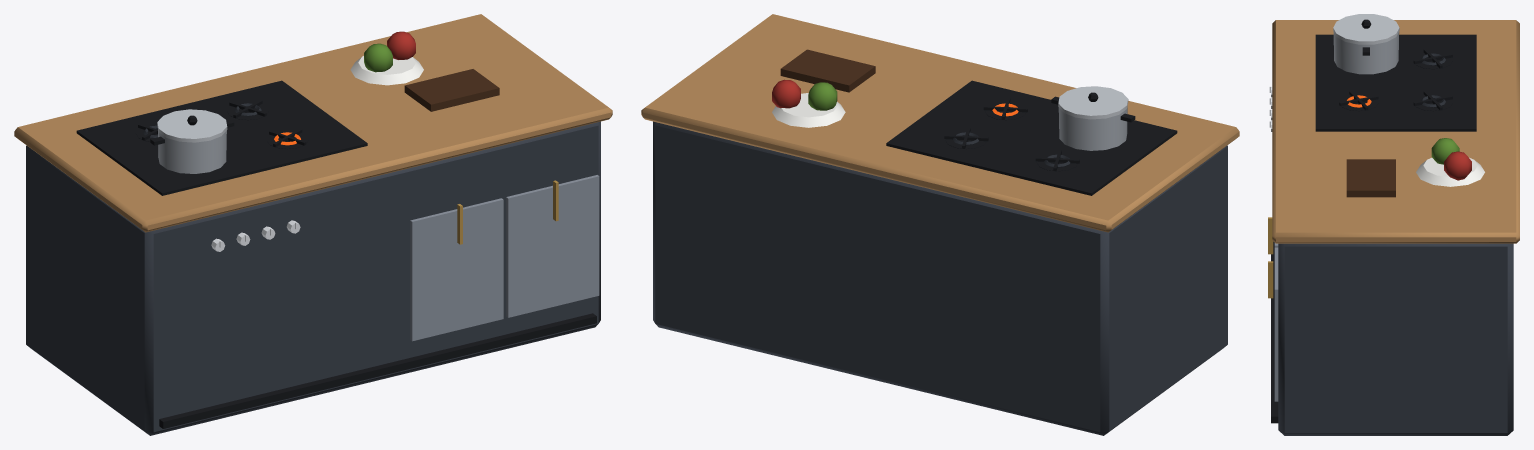
The model's file is galley_kitchen_island.glb.
The picture shows the model from 3 angles, left to right: view 1: azimuth 30°, elevation 25°; view 2: azimuth 150°, elevation 25°; view 3: azimuth 270°, elevation 25°; orthographic projection. The views are drawn at different scales.
Visible parts, largest first — view 1: galley_kitchen_island; view 2: galley_kitchen_island; view 3: galley_kitchen_island.
Part boxes in pixels (x1,y1,x2,y2): galley_kitchen_island: (14, 14, 612, 435); galley_kitchen_island: (641, 14, 1239, 435); galley_kitchen_island: (1268, 14, 1519, 435).
Bounding box in the file's own units: 2.06 × 1.12 × 1.02.
